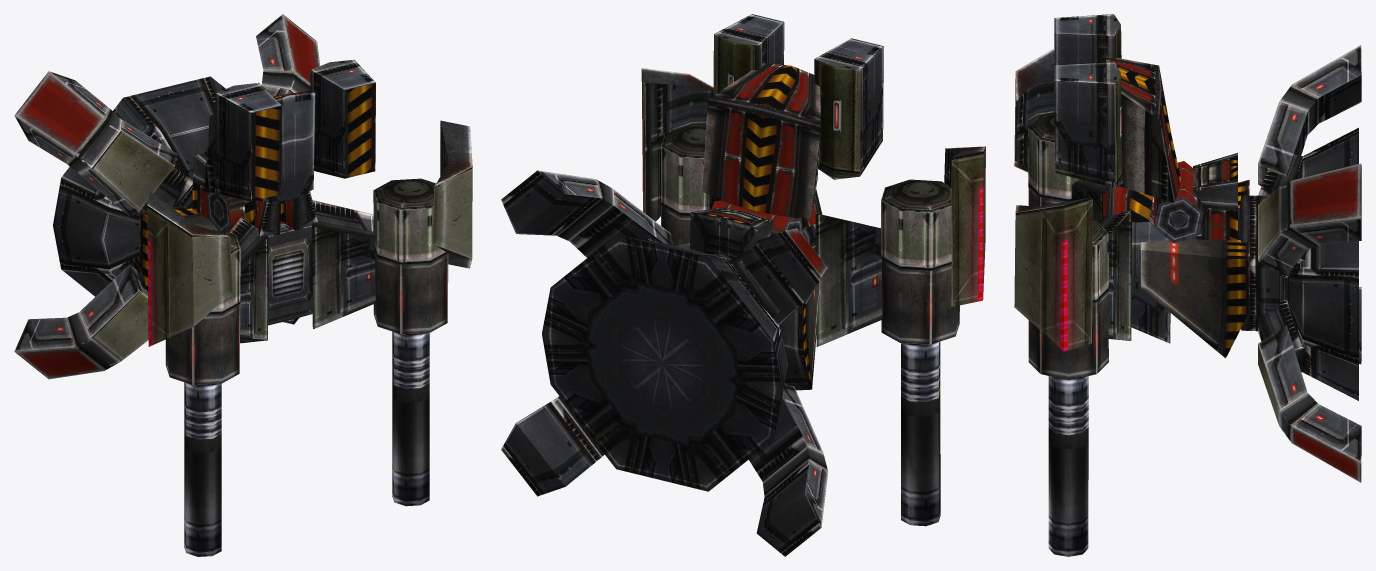
Rendered from turret-02.obj.
3 renders of one model, left to right at view 1: azimuth 30°, elevation 25°; view 2: azimuth 150°, elevation 25°; view 3: azimuth 270°, elevation 25°, orthographic. The views are drawn at different scales.
Visible parts, largest first — view 1: gun, body, barrel_02, barrel_01, head; view 2: body, gun, barrel_02, head; view 3: gun, body, head, barrel_01.
Part boxes in pixels (x1,y1,x2,y2): gun: (147,59,472,385); body: (14,14,319,379); barrel_02: (184,382,221,556); barrel_01: (392,331,429,506); head: (139,151,228,293); body: (501,170,827,556); gun: (641,14,985,346); barrel_02: (901,341,940,526); head: (676,207,819,390); gun: (1014,14,1203,379); body: (1238,45,1361,482); head: (1140,153,1249,358); barrel_01: (1048,376,1088,556).
Bounding box in the file's own units: 4.99 × 6.37 × 4.48.
Materials: 1 (1 with a texture image).
